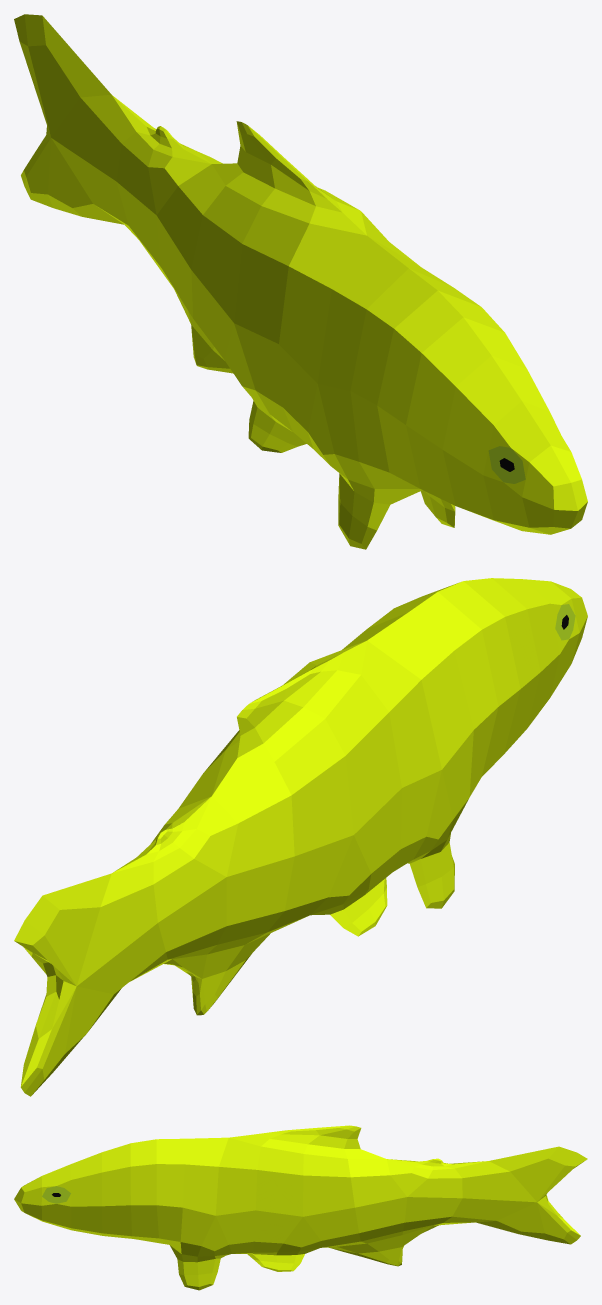
The model's file is DOURADO.fbx.
The picture shows the model from 3 angles, top to bottom: view 1: azimuth 30°, elevation 25°; view 2: azimuth 150°, elevation 25°; view 3: azimuth 270°, elevation 25°; orthographic projection. The views are drawn at different scales.
Visible parts, largest first — view 1: dourado; view 2: dourado; view 3: dourado.
Boxes of the visible parts, bbox=[...] form: dourado: bbox=[14, 14, 587, 549]; dourado: bbox=[14, 578, 587, 1096]; dourado: bbox=[14, 1125, 587, 1290].
Bounding box in the file's own units: 0.1578 × 0.366 × 1.24.
